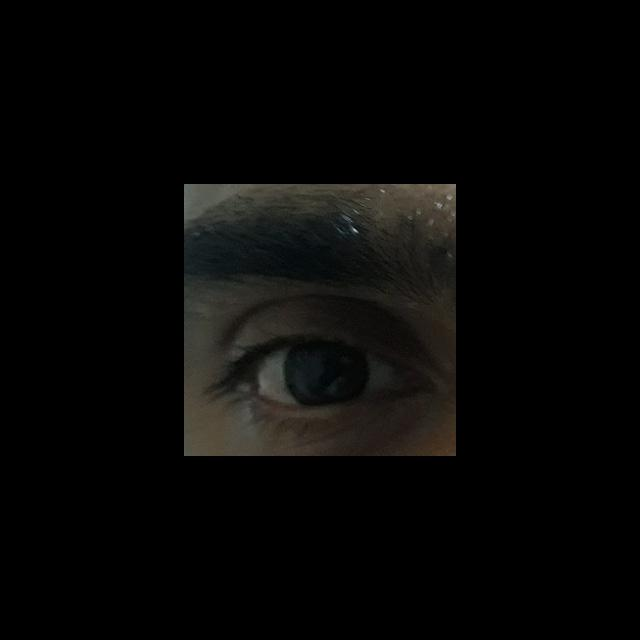eye: (250, 340, 404, 408)
iris: (284, 342, 371, 406)
